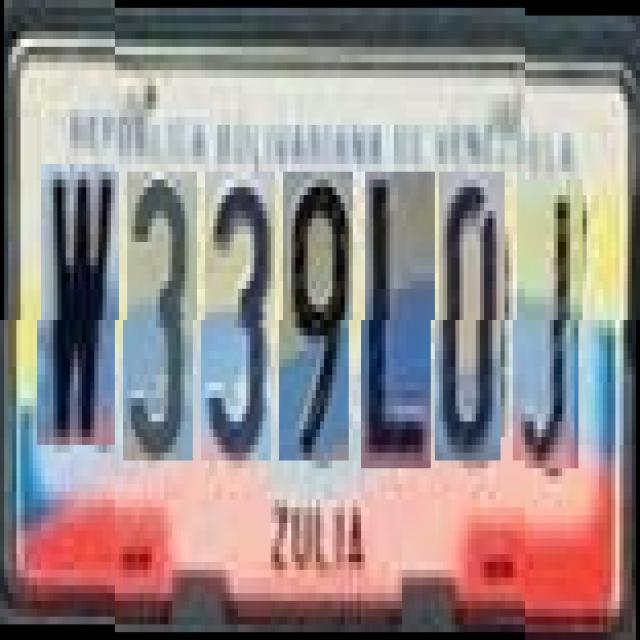0: (440, 172, 504, 460)
3: (127, 172, 197, 460), (205, 172, 275, 460)
9: (283, 172, 353, 460)
J: (516, 172, 582, 460)
L: (365, 172, 435, 468)
W: (41, 172, 119, 452)
